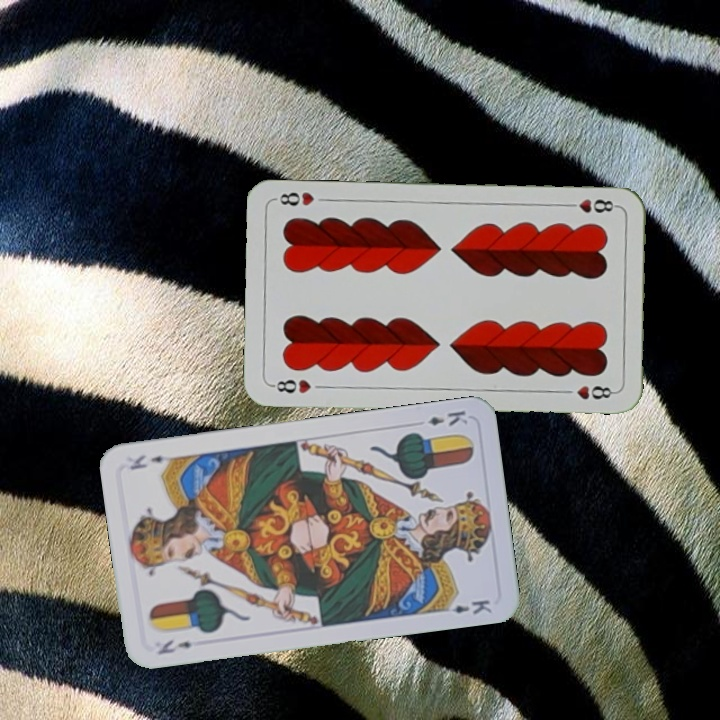EK: (424, 406, 471, 429), (154, 635, 194, 657)
H8: (561, 195, 620, 215), (268, 376, 314, 396)
